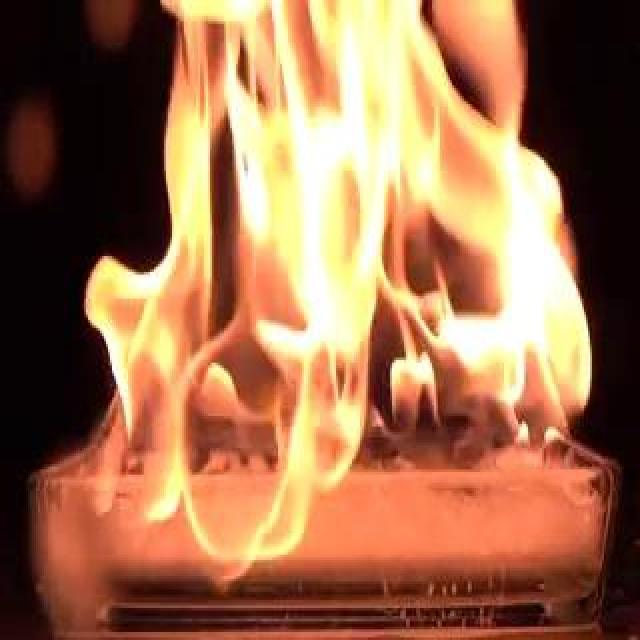Fire: (24, 3, 564, 549)
